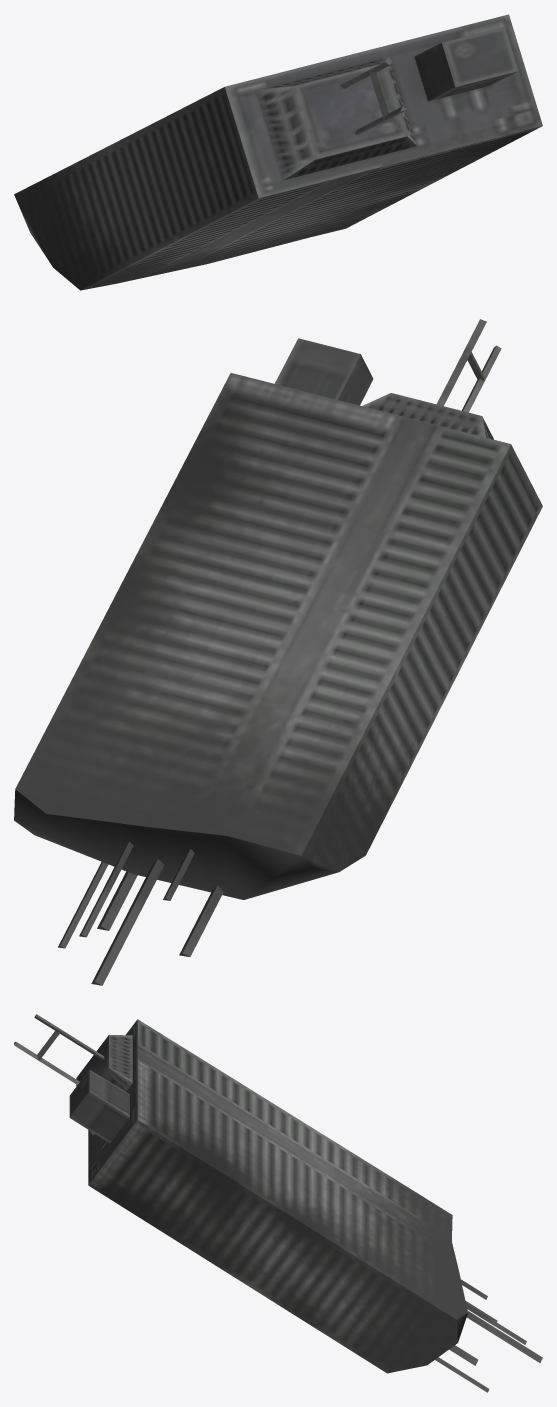
File: skyBuildingAAC_pos_grp (14).fbx
3 renders of one model, top to bottom at view 1: azimuth 30°, elevation 25°; view 2: azimuth 150°, elevation 25°; view 3: azimuth 270°, elevation 25°, orthographic. The views are drawn at different scales.
Visible parts, largest first — view 1: skyBuildingAAC_geo; view 2: skyBuildingAAC_geo; view 3: skyBuildingAAC_geo.
Part boxes in pixels (x1,y1,x2,y2): skyBuildingAAC_geo: (14,14,542,290); skyBuildingAAC_geo: (14,319,542,985); skyBuildingAAC_geo: (14,1014,542,1392).
Bounding box in the file's own units: 5.23 × 7.7 × 11.14.
